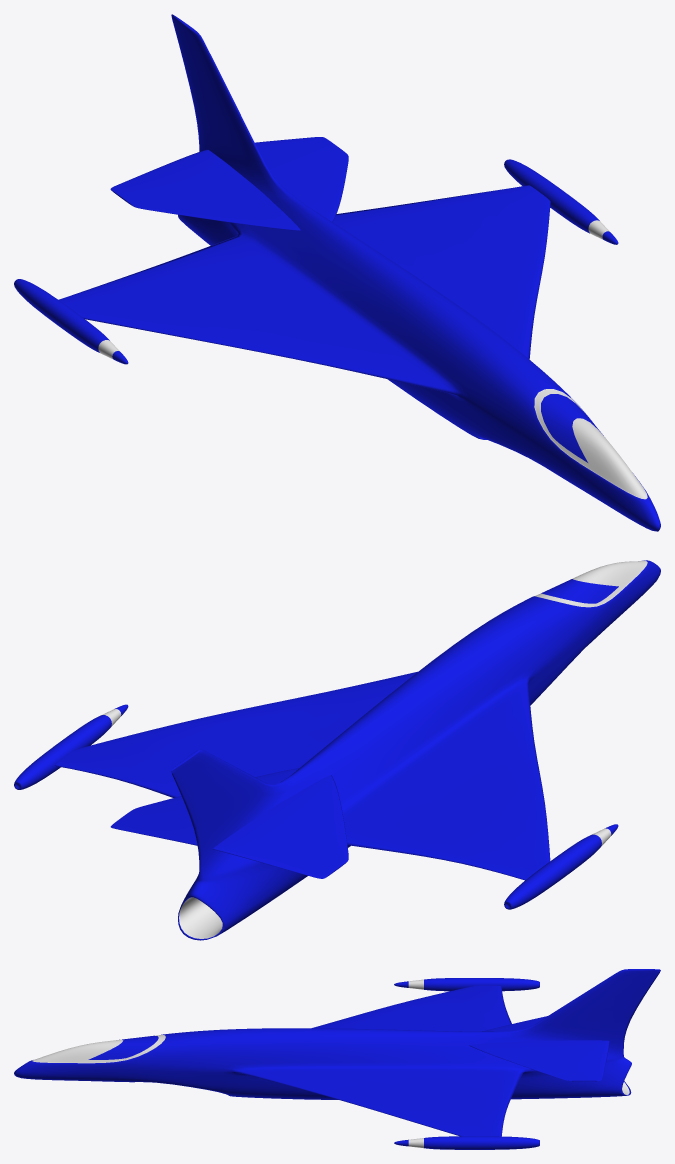
The picture shows the model from 3 angles, top to bottom: view 1: azimuth 30°, elevation 25°; view 2: azimuth 150°, elevation 25°; view 3: azimuth 270°, elevation 25°; orthographic projection. The views are drawn at different scales.
Parts seen in each view (by area): view 1: Jet_plane_.001_Cube.006, SC_H_Stabilizer.001_Cube.007, SC_Wing_G.AMP_R01_.001_Cube.009, SC_Wing_G.AMP_L01_.001_Cube.008; view 2: Jet_plane_.001_Cube.006, SC_H_Stabilizer.001_Cube.007, SC_Wing_G.AMP_R01_.001_Cube.009, SC_Wing_G.AMP_L01_.001_Cube.008; view 3: Jet_plane_.001_Cube.006, SC_H_Stabilizer.001_Cube.007, SC_Wing_G.AMP_L01_.001_Cube.008, SC_Wing_G.AMP_R01_.001_Cube.009.
Boxes of the visible parts, bbox=[...] form: Jet_plane_.001_Cube.006: bbox=[58, 14, 660, 531]; SC_H_Stabilizer.001_Cube.007: bbox=[110, 137, 348, 230]; SC_Wing_G.AMP_R01_.001_Cube.009: bbox=[14, 279, 128, 364]; SC_Wing_G.AMP_L01_.001_Cube.008: bbox=[504, 159, 618, 244]; Jet_plane_.001_Cube.006: bbox=[55, 560, 660, 940]; SC_H_Stabilizer.001_Cube.007: bbox=[110, 768, 348, 878]; SC_Wing_G.AMP_R01_.001_Cube.009: bbox=[504, 824, 618, 909]; SC_Wing_G.AMP_L01_.001_Cube.008: bbox=[14, 704, 128, 789]; Jet_plane_.001_Cube.006: bbox=[14, 969, 660, 1136]; SC_H_Stabilizer.001_Cube.007: bbox=[469, 1016, 609, 1081]; SC_Wing_G.AMP_L01_.001_Cube.008: bbox=[394, 1136, 539, 1149]; SC_Wing_G.AMP_R01_.001_Cube.009: bbox=[394, 978, 539, 991].
Size of the model in its own units: 25.23 by 9.18 by 42.
